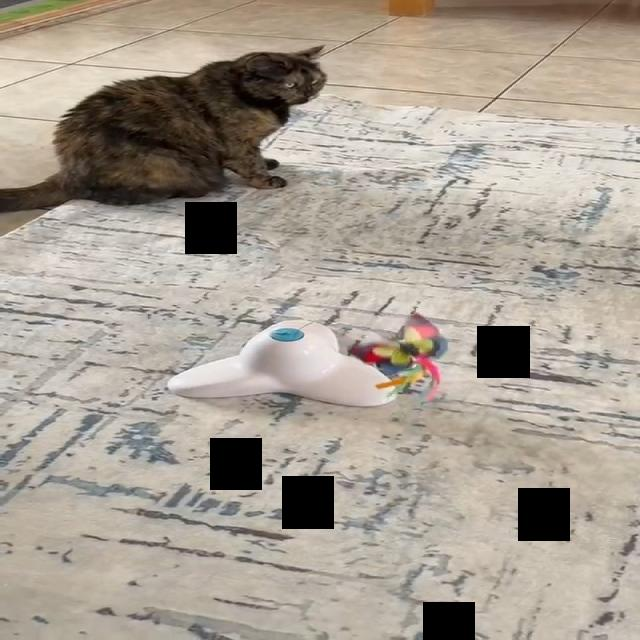authorized: (0, 43, 327, 213)
